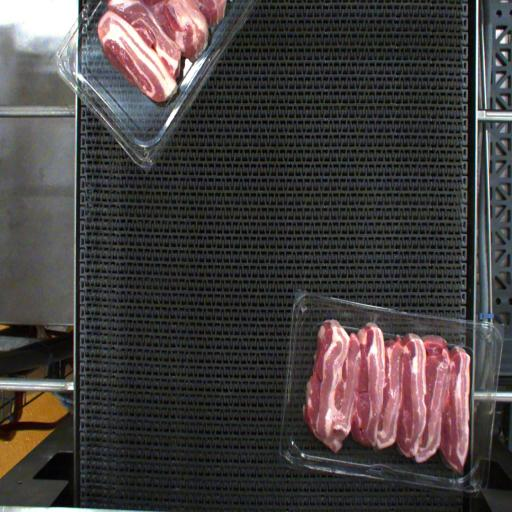packaging-error: (365, 308, 379, 328)
